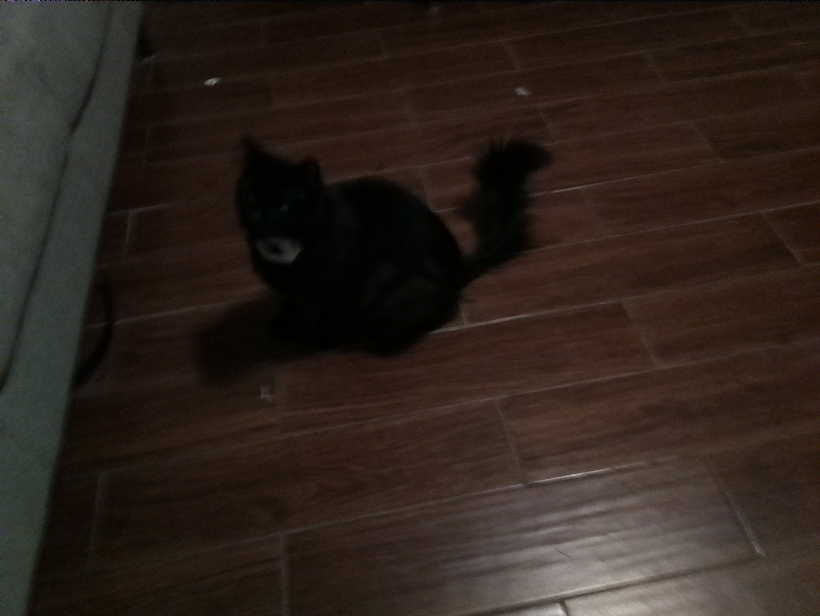cat: (209, 118, 569, 364)
